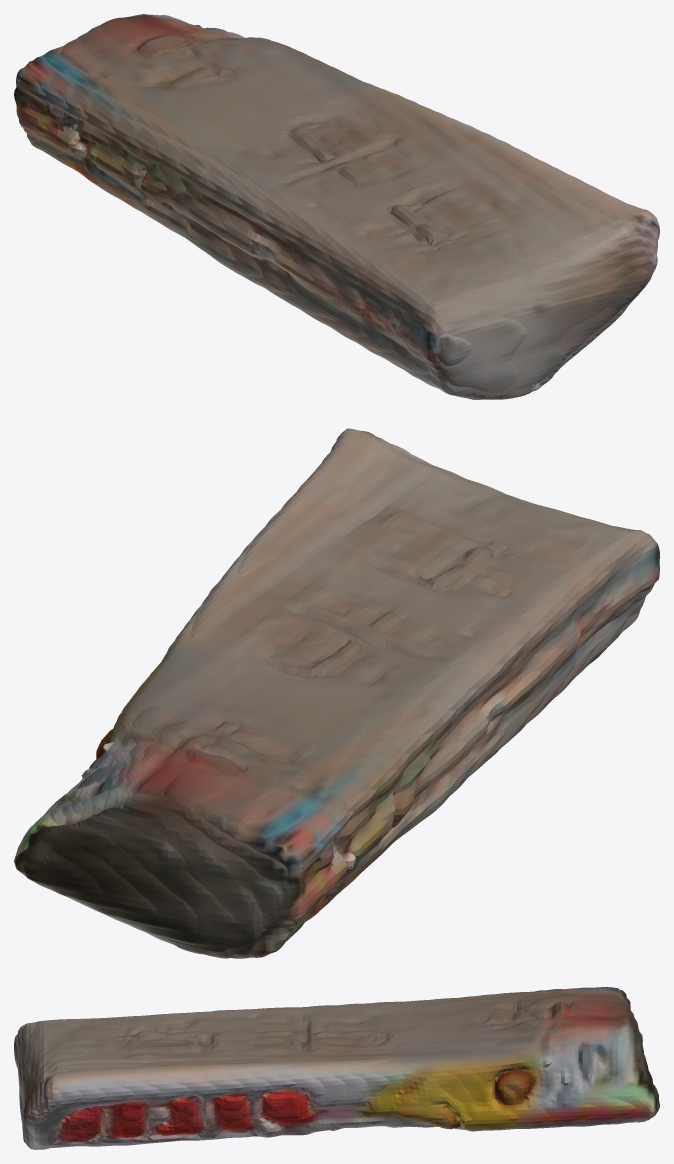
The picture shows the model from 3 angles, top to bottom: view 1: azimuth 30°, elevation 25°; view 2: azimuth 150°, elevation 25°; view 3: azimuth 270°, elevation 25°; orthographic projection. The views are drawn at different scales.
Size of the model in its own units: 0.465 by 0.2037 by 1.01.
